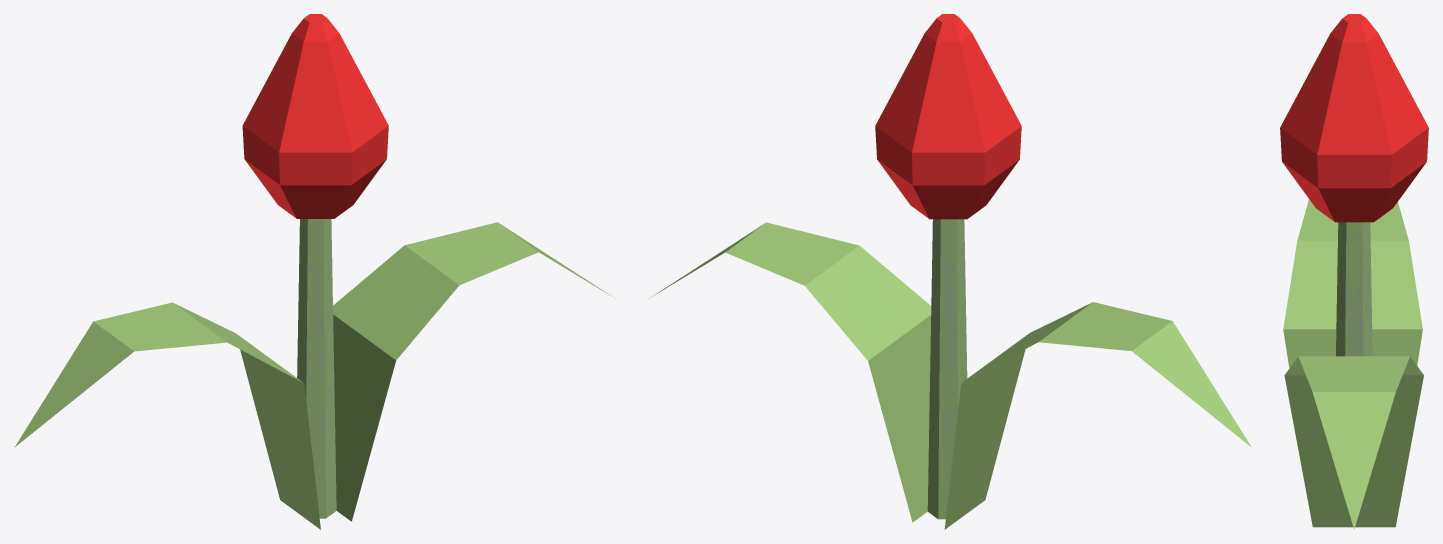
File: Flower_Bud_01.fbx
The picture shows the model from 3 angles, left to right: view 1: azimuth 30°, elevation 25°; view 2: azimuth 150°, elevation 25°; view 3: azimuth 270°, elevation 25°; orthographic projection.
Visible parts, largest first — view 1: Model; view 2: Model; view 3: Model.
Part boxes in pixels (left/top/right/bottom): Model: left=14, top=14, right=615, bottom=529; Model: left=649, top=14, right=1251, bottom=529; Model: left=1280, top=14, right=1428, bottom=529.
Size of the model in its own units: 146 by 114 by 30.65.
